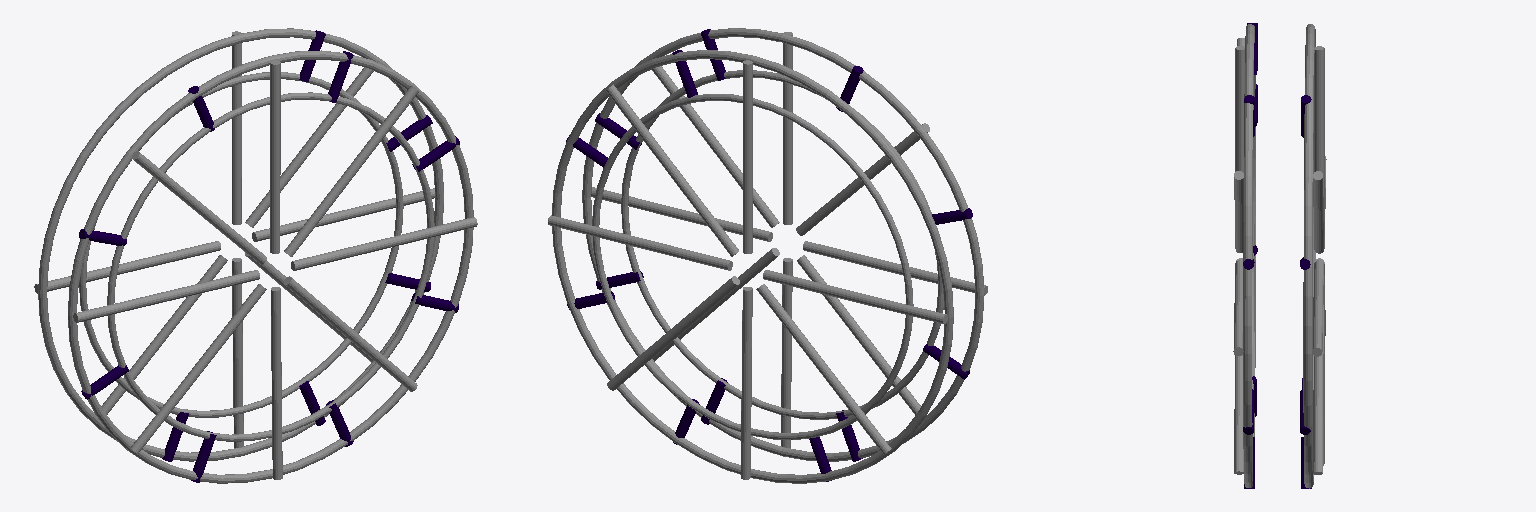
File: rueda_fortuna_parteUno.obj
The picture shows the model from 3 angles: view 1: azimuth 30°, elevation 25°; view 2: azimuth 150°, elevation 25°; view 3: azimuth 270°, elevation 25°; orthographic projection.
Parts seen in each view (by area): view 1: Wheel1_Torus001, Wheel2_Torus_002, Wheel1_001_Torus_001, Wheel2_001_Torus_001, Brazo_mini_015_Cylinder_001, Brazo_mini_011_Cylinder_001, Brazo_mini_008_Cylinder_001, Brazo_mini_012_Cylinder_001, Brazo_mini_014_Cylinder_001, Brazo_mini_010_Cylinder_001, Brazo_mini_009_Cylinder_001, Brazo_mini_013_Cylinder_001 (+7 smaller); view 2: Wheel2_Torus_002, Wheel1_Torus001, Wheel2_001_Torus_001, Wheel1_001_Torus_001, Brazo_mini_007_Cylinder_001, Brazo_mini_003_Cylinder_001, Brazo_mini_004_Cylinder_001, Brazo_mini_Cylinder_001, Brazo_mini_006_Cylinder_001, Brazo_mini_002_Cylinder_001, Brazo_mini_005_Cylinder_001, Brazo_mini_015_Cylinder_001 (+7 smaller); view 3: Wheel1_Torus001, Wheel2_Torus_002, Brazo_mini_Cylinder_001, Brazo_mini_005_Cylinder_001, Brazo_mini_008_Cylinder_001, Brazo_mini_013_Cylinder_001, Brazo_mini_006_Cylinder_001, Brazo_mini_007_Cylinder_001, Brazo_mini_014_Cylinder_001, Brazo_mini_015_Cylinder_001, Wheel1_001_Torus_001.
Boxes of the visible parts, box(x1,y1,x2,y2) form: Wheel1_Torus001: box(68, 50, 473, 483); Wheel2_Torus_002: box(38, 28, 443, 461); Wheel1_001_Torus_001: box(107, 92, 434, 441); Wheel2_001_Torus_001: box(79, 72, 403, 417); Brazo_mini_015_Cylinder_001: box(284, 86, 418, 256); Brazo_mini_011_Cylinder_001: box(131, 284, 266, 453); Brazo_mini_008_Cylinder_001: box(270, 60, 280, 253); Brazo_mini_012_Cylinder_001: box(271, 287, 282, 479); Brazo_mini_014_Cylinder_001: box(291, 217, 477, 270); Brazo_mini_010_Cylinder_001: box(73, 270, 259, 322); Brazo_mini_009_Cylinder_001: box(132, 151, 266, 264); Brazo_mini_013_Cylinder_001: box(284, 276, 417, 391); Wheel2_Torus_002: box(552, 50, 953, 483); Wheel1_Torus001: box(582, 28, 984, 461); Wheel2_001_Torus_001: box(592, 94, 913, 439); Wheel1_001_Torus_001: box(621, 70, 943, 419); Brazo_mini_007_Cylinder_001: box(606, 84, 738, 256); Brazo_mini_003_Cylinder_001: box(756, 284, 891, 454); Brazo_mini_004_Cylinder_001: box(741, 287, 752, 479); Brazo_mini_Cylinder_001: box(743, 60, 752, 253); Brazo_mini_006_Cylinder_001: box(548, 215, 732, 270); Brazo_mini_002_Cylinder_001: box(763, 270, 947, 323); Brazo_mini_005_Cylinder_001: box(607, 276, 739, 390); Brazo_mini_015_Cylinder_001: box(652, 66, 779, 227); Wheel1_Torus001: box(1243, 24, 1255, 487); Wheel2_Torus_002: box(1303, 24, 1315, 488); Brazo_mini_Cylinder_001: box(1314, 46, 1324, 237); Brazo_mini_005_Cylinder_001: box(1313, 305, 1323, 474); Brazo_mini_008_Cylinder_001: box(1235, 46, 1244, 172); Brazo_mini_013_Cylinder_001: box(1234, 355, 1243, 474); Brazo_mini_006_Cylinder_001: box(1312, 260, 1323, 356); Brazo_mini_007_Cylinder_001: box(1313, 171, 1323, 253); Brazo_mini_014_Cylinder_001: box(1233, 260, 1243, 355); Brazo_mini_015_Cylinder_001: box(1234, 171, 1243, 252); Wheel1_001_Torus_001: box(1252, 79, 1254, 389).
Size of the model in its own units: 15.25 by 15.24 by 3.04.